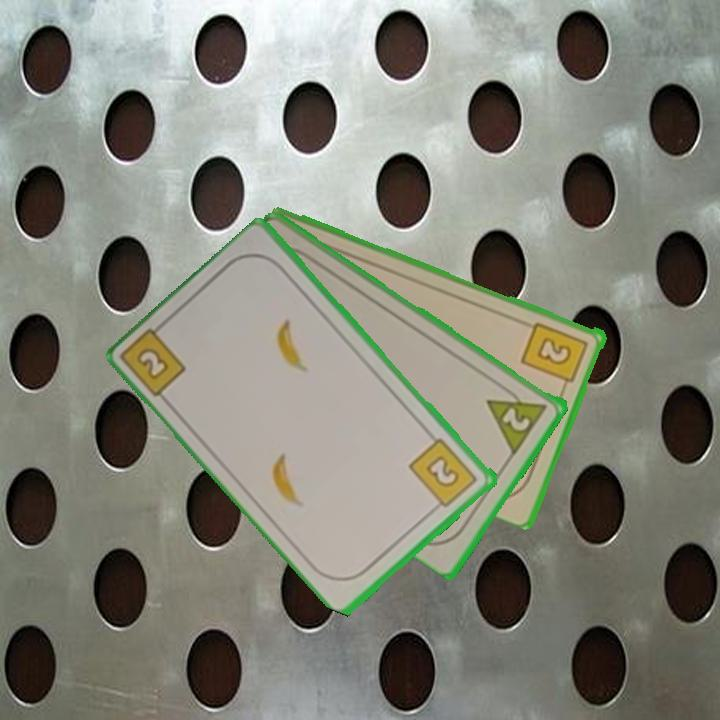2b: (406, 434, 481, 515), (120, 316, 190, 400), (518, 318, 592, 393)
2p: (498, 403, 534, 435)
